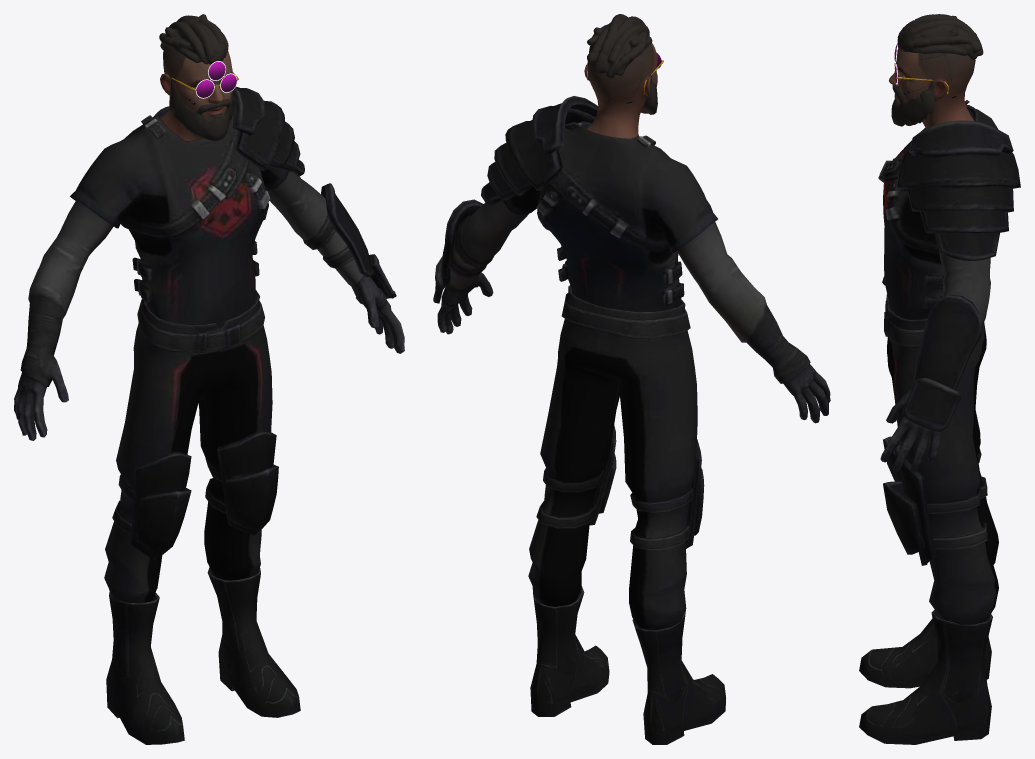
Rendered from player.glb.
The picture shows the model from 3 angles, left to right: view 1: azimuth 30°, elevation 25°; view 2: azimuth 150°, elevation 25°; view 3: azimuth 270°, elevation 25°; orthographic projection.
Parts seen in each view (by area): view 1: Wolf3D_Outfit_Top.001, Wolf3D_Outfit_Bottom.001, Wolf3D_Outfit_Footwear.001, Wolf3D_Head.001, Wolf3D_Hair.001, Wolf3D_Beard.001, Wolf3D_Glasses.001; view 2: Wolf3D_Outfit_Top.001, Wolf3D_Outfit_Bottom.001, Wolf3D_Outfit_Footwear.001, Wolf3D_Head.001, Wolf3D_Hair.001; view 3: Wolf3D_Outfit_Top.001, Wolf3D_Outfit_Bottom.001, Wolf3D_Outfit_Footwear.001, Wolf3D_Head.001, Wolf3D_Hair.001, Wolf3D_Beard.001.
Boxes of the visible parts, x1,y1,x2,y2 form: Wolf3D_Outfit_Top.001: (14,86,404,440); Wolf3D_Outfit_Bottom.001: (104,290,278,602); Wolf3D_Outfit_Footwear.001: (106,567,300,744); Wolf3D_Head.001: (160,45,232,140); Wolf3D_Hair.001: (159,14,228,64); Wolf3D_Beard.001: (169,77,232,140); Wolf3D_Glasses.001: (172,61,238,98); Wolf3D_Outfit_Top.001: (433,96,830,423); Wolf3D_Outfit_Bottom.001: (528,285,704,629); Wolf3D_Outfit_Footwear.001: (530,586,725,744); Wolf3D_Head.001: (584,43,657,138); Wolf3D_Hair.001: (587,14,652,78); Wolf3D_Outfit_Top.001: (878,100,1020,472); Wolf3D_Outfit_Bottom.001: (883,294,998,624); Wolf3D_Outfit_Footwear.001: (859,609,992,744); Wolf3D_Head.001: (889,48,975,128); Wolf3D_Hair.001: (897,14,983,59); Wolf3D_Beard.001: (891,80,934,126).
Size of the model in its own units: 1.07 by 1.86 by 0.3964.
Materials: 9 (9 with a texture image).
